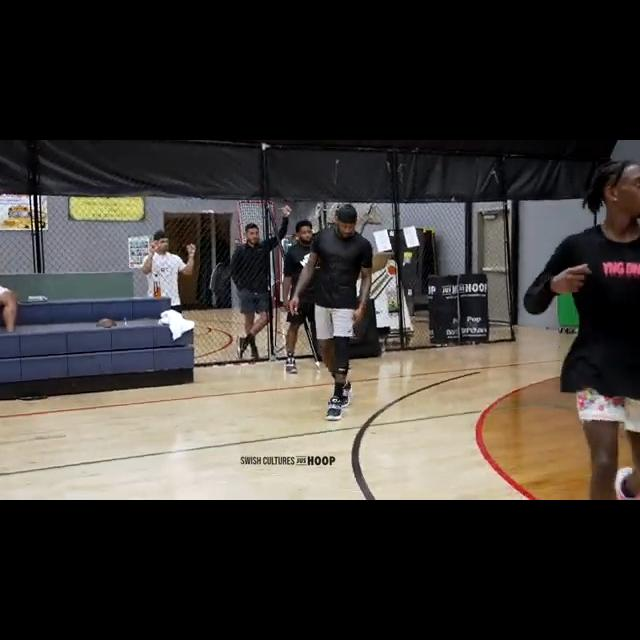person: (522, 161, 639, 500), (291, 203, 375, 424), (286, 216, 325, 374), (236, 221, 278, 362), (142, 232, 197, 326), (0, 269, 23, 332)
